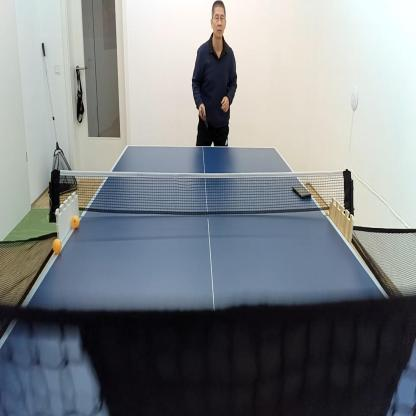Ball: (52, 238, 62, 254), (71, 217, 79, 228)
